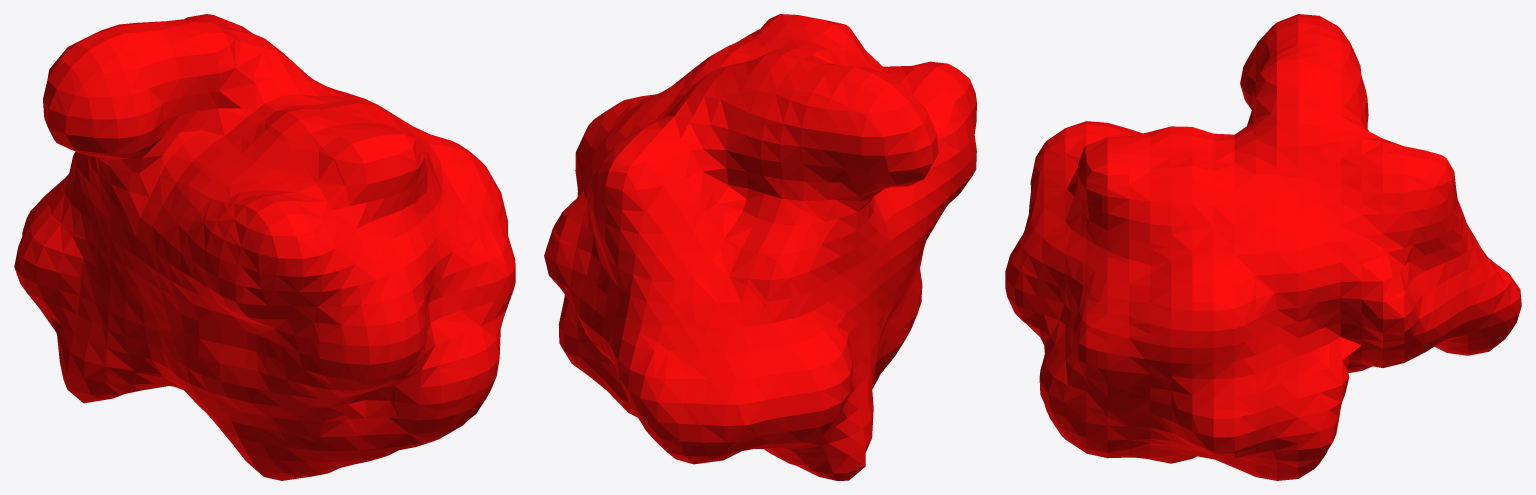
The model's file is ybbO_coarse.dae.
The picture shows the model from 3 angles, left to right: view 1: azimuth 30°, elevation 25°; view 2: azimuth 150°, elevation 25°; view 3: azimuth 270°, elevation 25°; orthographic projection. The views are drawn at different scales.
Parts seen in each view (by area): view 1: ybbO; view 2: ybbO; view 3: ybbO.
Part boxes in pixels (x1,y1,x2,y2): ybbO: (14,14,515,480); ybbO: (544,14,976,480); ybbO: (1005,14,1521,480).
Size of the model in its own units: 49.72 by 49.45 by 60.08.
